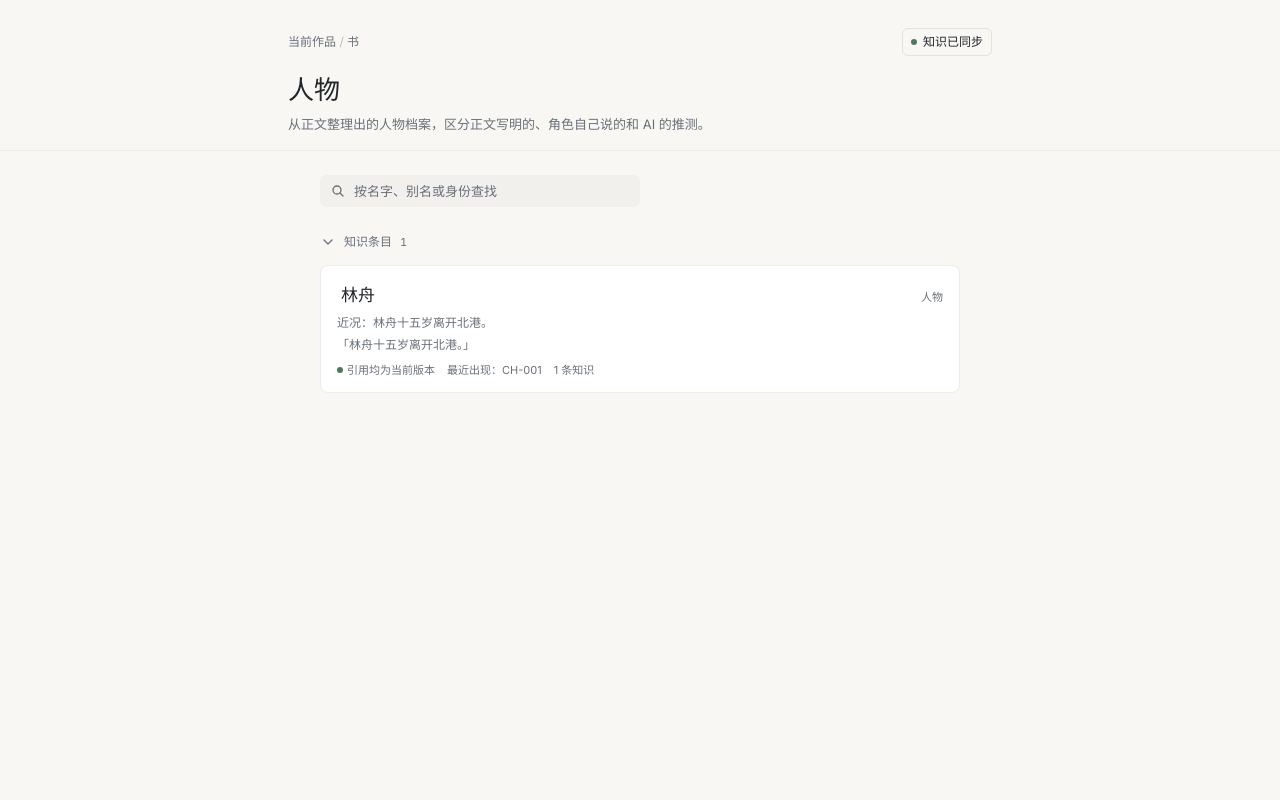
it: private AI memory › uses the author's correction when labeling a detail assertion
This screenshot has width=1280, height=800.
Expected: the heading "林舟" is shown, [341, 283, 375, 309]
Click the button with aria-label "打开林舟详情" at (358, 296), box [329, 280, 387, 312]
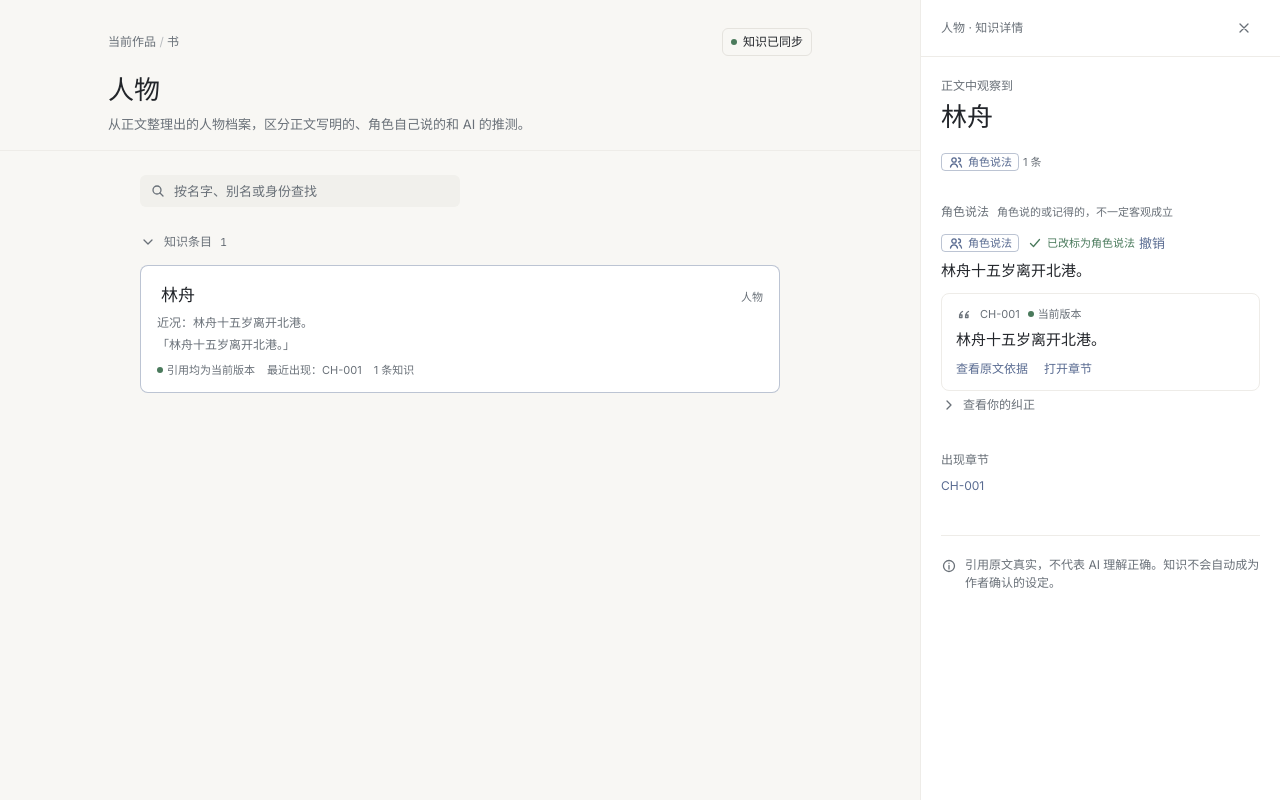
Result: the heading "角色说法" is shown at [941, 203, 989, 221]
